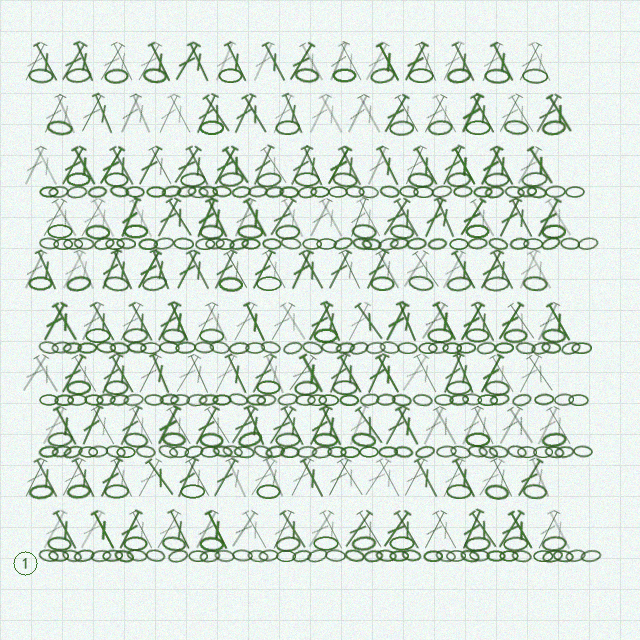chain: (236, 429, 264, 450), (407, 274, 435, 293), (369, 66, 396, 85), (65, 274, 92, 293), (141, 274, 168, 293), (331, 171, 359, 189), (46, 119, 73, 137), (407, 171, 434, 189), (103, 275, 130, 293), (350, 431, 377, 449), (256, 171, 282, 189), (389, 223, 415, 241), (446, 275, 472, 293), (123, 431, 149, 449), (541, 431, 567, 449), (484, 483, 510, 501), (161, 535, 187, 553), (275, 535, 301, 553), (65, 67, 92, 84), (521, 171, 548, 188), (122, 327, 149, 344), (142, 67, 168, 84), (294, 67, 320, 84), (446, 67, 472, 84), (427, 119, 453, 136), (503, 119, 529, 136), (541, 119, 567, 136), (218, 171, 244, 188), (446, 171, 472, 188), (351, 223, 377, 240), (522, 275, 548, 292), (47, 431, 73, 448), (161, 431, 187, 448), (66, 483, 92, 500), (522, 483, 548, 500), (351, 535, 377, 552), (541, 535, 567, 552), (483, 276, 510, 292), (464, 536, 491, 552), (28, 68, 54, 84), (484, 68, 510, 84), (522, 68, 548, 84), (180, 172, 206, 188), (484, 172, 510, 188), (237, 224, 263, 240), (161, 328, 187, 344), (541, 328, 567, 344), (446, 380, 472, 396), (484, 380, 510, 396), (275, 432, 301, 448), (28, 484, 54, 500), (104, 68, 129, 84), (389, 120, 414, 136), (85, 224, 110, 240), (199, 224, 224, 240), (275, 224, 300, 240), (218, 276, 243, 292), (199, 328, 224, 344), (503, 328, 528, 344), (294, 380, 319, 396), (199, 432, 224, 448), (313, 432, 338, 448), (47, 536, 72, 552), (199, 536, 224, 552), (503, 536, 528, 552), (62, 443, 84, 461), (252, 443, 274, 461), (306, 547, 329, 564), (408, 68, 434, 83), (465, 120, 491, 135), (294, 172, 320, 187), (47, 224, 73, 239), (256, 276, 282, 291), (85, 328, 111, 343), (427, 328, 453, 343), (332, 380, 358, 395), (446, 484, 472, 499), (313, 536, 339, 551), (389, 536, 415, 551), (218, 68, 243, 83), (332, 68, 357, 83), (199, 120, 224, 135), (275, 120, 300, 135), (66, 172, 91, 187), (104, 172, 129, 187), (123, 224, 148, 239), (465, 224, 490, 239), (541, 224, 566, 239), (28, 276, 53, 291), (370, 276, 395, 291), (313, 328, 338, 343), (465, 328, 490, 343), (66, 380, 91, 395), (104, 380, 129, 395), (256, 380, 281, 395), (465, 432, 490, 447), (104, 484, 129, 499), (180, 484, 205, 499), (256, 484, 281, 499), (123, 536, 148, 551), (332, 235, 354, 252), (540, 235, 562, 252), (157, 443, 179, 460), (183, 443, 205, 460), (377, 236, 400, 252), (301, 340, 324, 356), (449, 444, 472, 460), (541, 548, 564, 564), (228, 236, 250, 252), (351, 236, 373, 252), (487, 236, 509, 252), (282, 340, 304, 356), (348, 340, 370, 356), (530, 340, 552, 356), (560, 340, 582, 356), (511, 392, 533, 408), (414, 444, 436, 460), (477, 444, 499, 460), (61, 548, 83, 564), (113, 548, 135, 564), (167, 548, 189, 564), (291, 548, 313, 564), (459, 548, 481, 564), (431, 184, 453, 199), (93, 236, 115, 251), (153, 236, 175, 251), (280, 236, 302, 251), (577, 236, 599, 251), (227, 392, 249, 407), (277, 392, 299, 407), (264, 444, 286, 459), (506, 444, 528, 459), (73, 548, 95, 563), (126, 548, 148, 563), (109, 184, 130, 199), (161, 184, 182, 199), (176, 184, 197, 199), (379, 184, 400, 199), (389, 236, 410, 251), (38, 340, 59, 355), (209, 340, 230, 355), (260, 340, 281, 355), (379, 340, 400, 355), (359, 392, 380, 407), (489, 392, 510, 407), (51, 444, 72, 459), (105, 444, 126, 459), (135, 444, 156, 459), (212, 444, 233, 459), (222, 444, 243, 459), (467, 444, 488, 459), (488, 444, 509, 459), (38, 548, 59, 563), (145, 548, 166, 563), (344, 548, 365, 563), (401, 548, 422, 563), (565, 548, 586, 563), (66, 185, 88, 199), (187, 185, 209, 199), (228, 341, 250, 355), (186, 393, 208, 407), (233, 445, 255, 459), (296, 445, 318, 459), (311, 445, 333, 459), (90, 549, 112, 563), (199, 549, 221, 563), (247, 549, 269, 563), (552, 549, 574, 563), (580, 549, 602, 563), (48, 185, 69, 199), (87, 185, 108, 199), (231, 185, 252, 199), (264, 185, 285, 199), (297, 185, 318, 199), (358, 185, 379, 199), (484, 185, 505, 199), (504, 185, 525, 199), (526, 185, 547, 199), (361, 237, 382, 251), (427, 237, 448, 251), (62, 341, 83, 355), (109, 341, 130, 355), (335, 341, 356, 355), (365, 341, 386, 355), (476, 341, 497, 355), (515, 341, 536, 355), (109, 393, 130, 407), (123, 393, 144, 407), (198, 393, 219, 407), (256, 393, 277, 407), (391, 393, 412, 407), (412, 393, 433, 407), (393, 445, 414, 459), (544, 445, 565, 459), (554, 445, 575, 459), (214, 549, 235, 563), (363, 549, 384, 563), (435, 549, 456, 563), (511, 549, 532, 563), (73, 237, 95, 250), (375, 549, 397, 562), (545, 185, 566, 198), (173, 237, 194, 250), (406, 237, 427, 250), (467, 237, 488, 250), (509, 237, 530, 250), (51, 341, 72, 354), (159, 341, 180, 354), (175, 341, 196, 354), (321, 341, 342, 354), (428, 341, 449, 354), (159, 393, 180, 406), (38, 445, 59, 458), (436, 445, 457, 458), (48, 549, 69, 562), (102, 549, 123, 562), (232, 549, 253, 562), (258, 549, 279, 562), (325, 549, 346, 562), (469, 549, 490, 562), (198, 185, 218, 198), (212, 185, 232, 198), (248, 185, 268, 198), (345, 185, 365, 198), (399, 185, 419, 198), (453, 185, 473, 198), (517, 185, 537, 198), (39, 237, 59, 250), (116, 237, 136, 250), (205, 237, 225, 250), (560, 237, 580, 250), (96, 341, 116, 354), (127, 341, 147, 354), (194, 341, 214, 354), (541, 341, 561, 354), (96, 393, 116, 406), (376, 393, 396, 406), (449, 393, 469, 406), (462, 393, 482, 406), (534, 393, 554, 406), (554, 393, 574, 406), (88, 445, 108, 458), (573, 445, 593, 458), (413, 186, 434, 198), (316, 238, 337, 250), (140, 342, 161, 354), (397, 342, 418, 354), (571, 342, 592, 354), (295, 394, 316, 406), (318, 394, 339, 406), (477, 394, 498, 406), (568, 394, 589, 406), (39, 186, 59, 198), (125, 186, 145, 198), (146, 186, 166, 198), (279, 186, 299, 198), (310, 186, 330, 198), (328, 186, 348, 198), (473, 186, 493, 198), (565, 186, 585, 198), (53, 238, 73, 250), (63, 238, 83, 250), (105, 238, 125, 250), (138, 238, 158, 250), (195, 238, 215, 250), (215, 238, 235, 250), (241, 238, 261, 250), (262, 238, 282, 250), (302, 238, 322, 250), (449, 238, 469, 250), (523, 238, 543, 250), (77, 342, 97, 354), (245, 342, 265, 354), (418, 342, 438, 354), (442, 342, 462, 354), (456, 342, 476, 354), (494, 342, 514, 354), (39, 394, 59, 406), (54, 394, 74, 406), (67, 394, 87, 406), (84, 394, 104, 406), (144, 394, 164, 406), (170, 394, 190, 406), (212, 394, 232, 406), (246, 394, 266, 406), (307, 394, 327, 406), (339, 394, 359, 406), (434, 394, 454, 406), (78, 446, 98, 458), (116, 446, 136, 458), (169, 446, 189, 458), (200, 446, 220, 458), (280, 446, 300, 458), (327, 446, 347, 458), (340, 446, 360, 458), (359, 446, 379, 458), (378, 446, 398, 458), (517, 446, 537, 458), (533, 446, 553, 458), (188, 550, 208, 562), (276, 550, 296, 562), (389, 550, 409, 562), (423, 550, 443, 562), (446, 550, 466, 562), (486, 550, 506, 562), (499, 550, 519, 562), (533, 550, 553, 562)
double: (142, 456, 179, 499), (352, 300, 388, 343), (504, 300, 540, 343), (283, 352, 319, 395), (352, 404, 388, 447), (378, 508, 414, 551), (466, 508, 502, 551), (264, 404, 299, 448), (473, 456, 508, 500), (200, 92, 235, 135), (169, 144, 204, 187), (219, 144, 254, 187), (257, 144, 292, 187), (378, 196, 413, 239), (542, 196, 577, 239), (409, 248, 444, 291), (416, 300, 451, 343), (17, 352, 52, 395), (397, 352, 432, 395), (523, 352, 558, 395), (226, 404, 261, 447), (504, 404, 539, 447), (245, 456, 280, 499), (359, 456, 394, 499), (226, 508, 261, 551), (340, 508, 375, 551), (56, 40, 90, 84), (94, 40, 128, 84), (284, 40, 318, 84), (505, 92, 539, 136), (94, 144, 128, 188), (220, 248, 254, 292), (30, 352, 64, 396), (68, 352, 102, 396), (170, 352, 204, 396), (87, 404, 121, 448), (512, 456, 546, 500), (75, 91, 108, 136), (493, 91, 526, 136), (429, 299, 462, 344), (296, 351, 329, 396), (410, 351, 443, 396), (56, 455, 89, 500), (322, 455, 355, 500), (398, 455, 431, 500), (543, 92, 577, 135), (524, 144, 558, 187), (163, 196, 197, 239), (265, 196, 299, 239), (455, 196, 489, 239), (398, 248, 432, 291), (277, 300, 311, 343), (493, 300, 527, 343), (201, 404, 235, 447), (334, 456, 368, 499), (277, 508, 311, 551), (303, 508, 337, 551), (353, 508, 387, 551), (493, 508, 527, 551), (30, 40, 63, 84), (132, 40, 165, 84), (170, 40, 203, 84), (296, 40, 329, 84), (360, 40, 393, 84), (239, 92, 272, 136), (379, 92, 412, 136), (391, 92, 424, 136), (429, 92, 462, 136), (467, 92, 500, 136), (531, 92, 564, 136), (56, 144, 89, 188), (68, 144, 101, 188), (322, 144, 355, 188), (410, 144, 443, 188), (512, 144, 545, 188), (37, 196, 70, 240), (49, 196, 82, 240), (75, 196, 108, 240), (353, 196, 386, 240), (391, 196, 424, 240), (467, 196, 500, 240), (132, 248, 165, 292), (296, 248, 329, 292), (372, 248, 405, 292), (448, 248, 481, 292), (524, 248, 557, 292), (49, 300, 82, 344), (87, 300, 120, 344), (265, 300, 298, 344), (303, 300, 336, 344), (455, 300, 488, 344), (543, 300, 576, 344), (56, 352, 89, 396), (106, 352, 139, 396), (334, 352, 367, 396), (372, 352, 405, 396), (486, 352, 519, 396), (37, 404, 70, 448), (163, 404, 196, 448), (543, 404, 576, 448), (132, 456, 165, 500), (182, 456, 215, 500), (208, 456, 241, 500), (75, 508, 108, 552), (151, 508, 184, 552), (239, 508, 272, 552), (391, 508, 424, 552), (429, 508, 462, 552), (505, 508, 538, 552), (107, 39, 139, 84), (152, 403, 184, 448), (468, 403, 500, 448), (285, 455, 317, 500), (164, 507, 196, 552), (259, 40, 291, 84), (335, 40, 367, 84), (373, 40, 405, 84), (399, 40, 431, 84), (487, 40, 519, 84), (513, 40, 545, 84), (164, 92, 196, 136), (316, 92, 348, 136), (354, 92, 386, 136), (418, 92, 450, 136), (31, 144, 63, 188), (107, 144, 139, 188), (133, 144, 165, 188), (145, 144, 177, 188), (209, 144, 241, 188), (335, 144, 367, 188), (449, 144, 481, 188), (487, 144, 519, 188), (88, 196, 120, 240), (126, 196, 158, 240), (152, 196, 184, 240), (240, 196, 272, 240), (304, 196, 336, 240), (316, 196, 348, 240), (506, 196, 538, 240), (532, 196, 564, 240), (57, 248, 89, 292), (171, 248, 203, 292), (183, 248, 215, 292), (259, 248, 291, 292), (323, 248, 355, 292), (437, 248, 469, 292), (475, 248, 507, 292), (487, 248, 519, 292), (38, 300, 70, 344), (114, 300, 146, 344), (126, 300, 158, 344), (152, 300, 184, 344), (228, 300, 260, 344), (342, 300, 374, 344), (380, 300, 412, 344), (468, 300, 500, 344), (247, 352, 279, 396), (475, 352, 507, 396), (513, 352, 545, 396), (50, 404, 82, 448), (126, 404, 158, 448), (190, 404, 222, 448), (380, 404, 412, 448), (392, 404, 424, 448), (430, 404, 462, 448), (494, 404, 526, 448), (31, 456, 63, 500), (297, 456, 329, 500), (373, 456, 405, 500), (411, 456, 443, 500), (449, 456, 481, 500), (38, 508, 70, 552), (50, 508, 82, 552), (88, 508, 120, 552), (126, 508, 158, 552), (190, 508, 222, 552), (316, 508, 348, 552), (418, 508, 450, 552), (544, 508, 576, 552), (437, 39, 468, 84), (456, 91, 487, 136), (399, 143, 430, 188), (437, 143, 468, 188), (456, 507, 487, 552), (19, 40, 50, 84), (145, 40, 176, 84), (221, 40, 252, 84), (449, 40, 480, 84), (525, 40, 556, 84), (38, 92, 69, 136), (304, 92, 335, 136), (342, 92, 373, 136), (19, 144, 50, 188), (183, 144, 214, 188), (285, 144, 316, 188), (373, 144, 404, 188), (475, 144, 506, 188), (202, 196, 233, 240), (278, 196, 309, 240), (494, 196, 525, 240), (19, 248, 50, 292), (209, 248, 240, 292), (247, 248, 278, 292), (335, 248, 366, 292), (361, 248, 392, 292), (76, 300, 107, 344), (190, 300, 221, 344), (202, 300, 233, 344), (240, 300, 271, 344), (532, 300, 563, 344), (133, 352, 164, 396), (209, 352, 240, 396), (278, 404, 309, 448), (304, 404, 335, 448), (316, 404, 347, 448), (418, 404, 449, 448), (456, 404, 487, 448), (532, 404, 563, 448), (19, 456, 50, 500), (69, 456, 100, 500), (95, 456, 126, 500), (107, 456, 138, 500), (437, 456, 468, 500), (487, 456, 518, 500), (114, 508, 145, 552), (202, 508, 233, 552), (532, 508, 563, 552), (70, 247, 100, 292), (184, 40, 214, 84), (248, 40, 278, 84), (412, 40, 442, 84), (476, 40, 506, 84), (51, 92, 81, 136), (115, 92, 145, 136), (153, 92, 183, 136), (191, 92, 221, 136), (229, 92, 259, 136), (267, 92, 297, 136), (298, 144, 328, 188), (362, 144, 392, 188), (191, 196, 221, 240), (229, 196, 259, 240), (419, 196, 449, 240), (32, 248, 62, 292), (108, 248, 138, 292), (286, 248, 316, 292), (96, 352, 126, 396), (184, 352, 214, 396), (222, 352, 252, 396), (260, 352, 290, 396), (362, 352, 392, 396), (115, 404, 145, 448), (172, 456, 202, 500), (222, 456, 252, 500), (267, 508, 297, 552), (70, 39, 99, 84), (210, 39, 239, 84), (324, 39, 353, 84), (89, 91, 118, 136), (127, 91, 156, 136), (279, 91, 308, 136), (248, 143, 277, 188), (115, 195, 144, 240), (431, 195, 460, 240), (96, 247, 125, 292), (514, 247, 543, 292), (165, 299, 194, 344), (317, 299, 346, 344), (393, 299, 422, 344), (146, 351, 175, 396), (324, 351, 353, 396), (438, 351, 467, 396), (450, 351, 479, 396), (77, 403, 106, 448), (241, 403, 270, 448), (260, 455, 289, 500), (526, 455, 555, 500), (344, 195, 372, 240), (147, 247, 175, 292), (344, 403, 372, 448)
noise: (11, 549, 39, 577)
